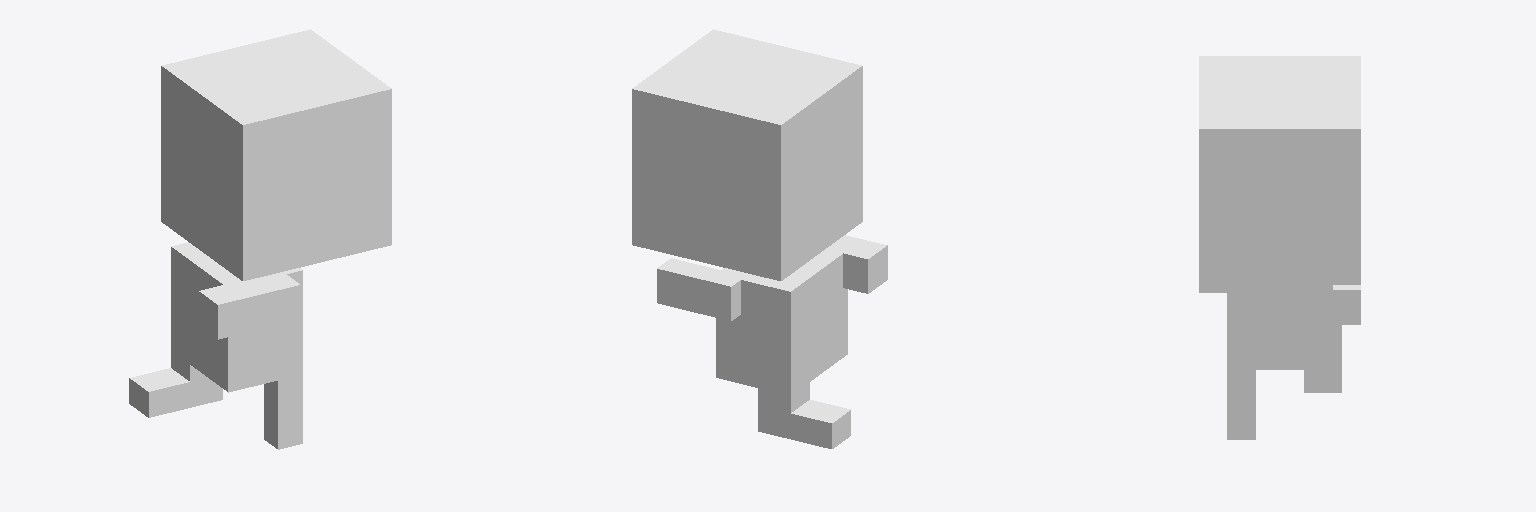
The model's file is person_dash_obj.obj.
3 views of the same model, side by side, from view 1: azimuth 30°, elevation 25°; view 2: azimuth 150°, elevation 25°; view 3: azimuth 270°, elevation 25° (orthographic).
Size of the model in its own units: 23 by 40 by 17.